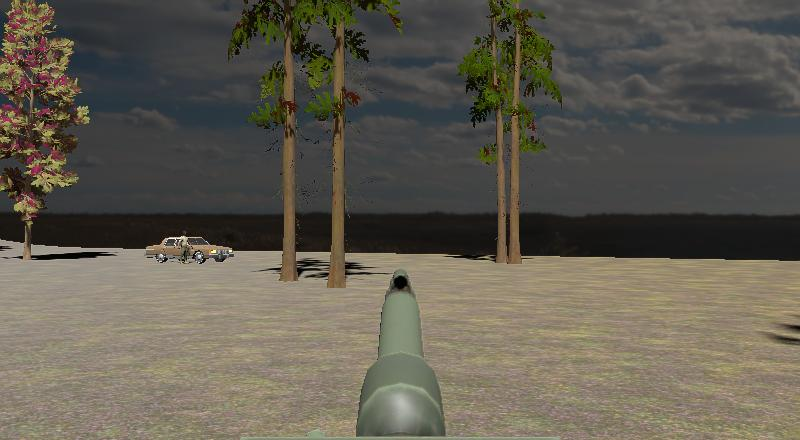car: (143, 234, 235, 266), (173, 235, 236, 264)
